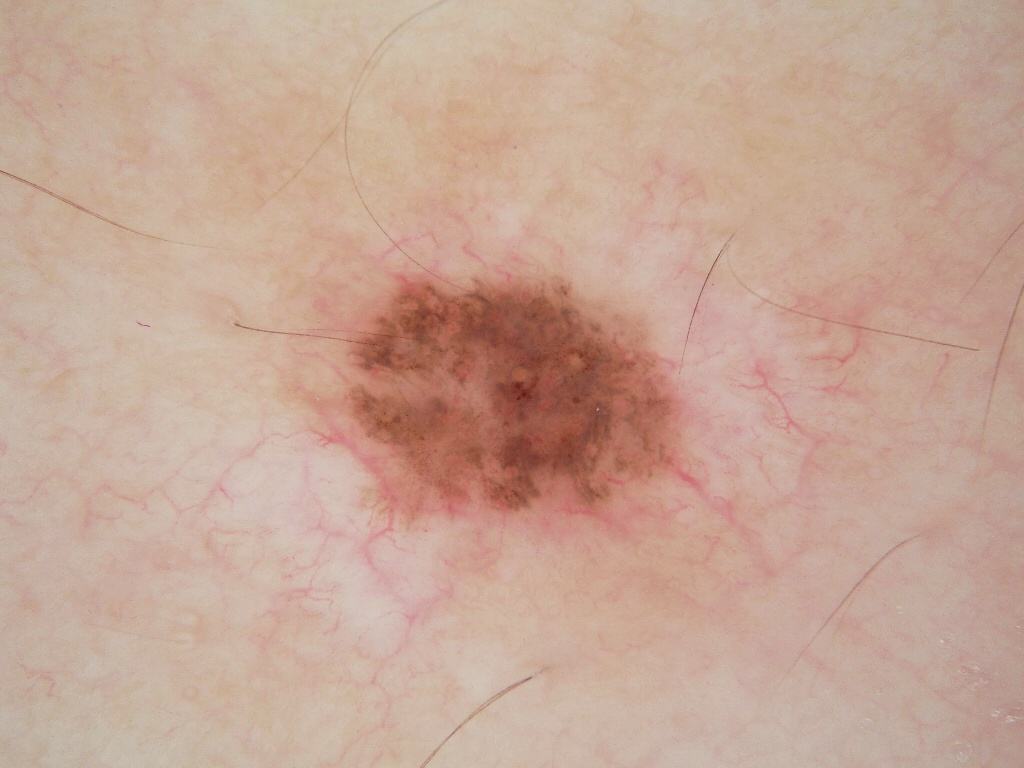Detected Lesion: (337, 266, 690, 524)
